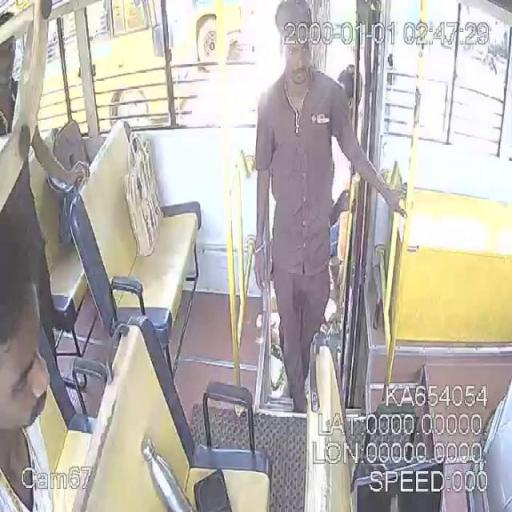persona: (251, 0, 409, 414), (0, 224, 61, 512)
